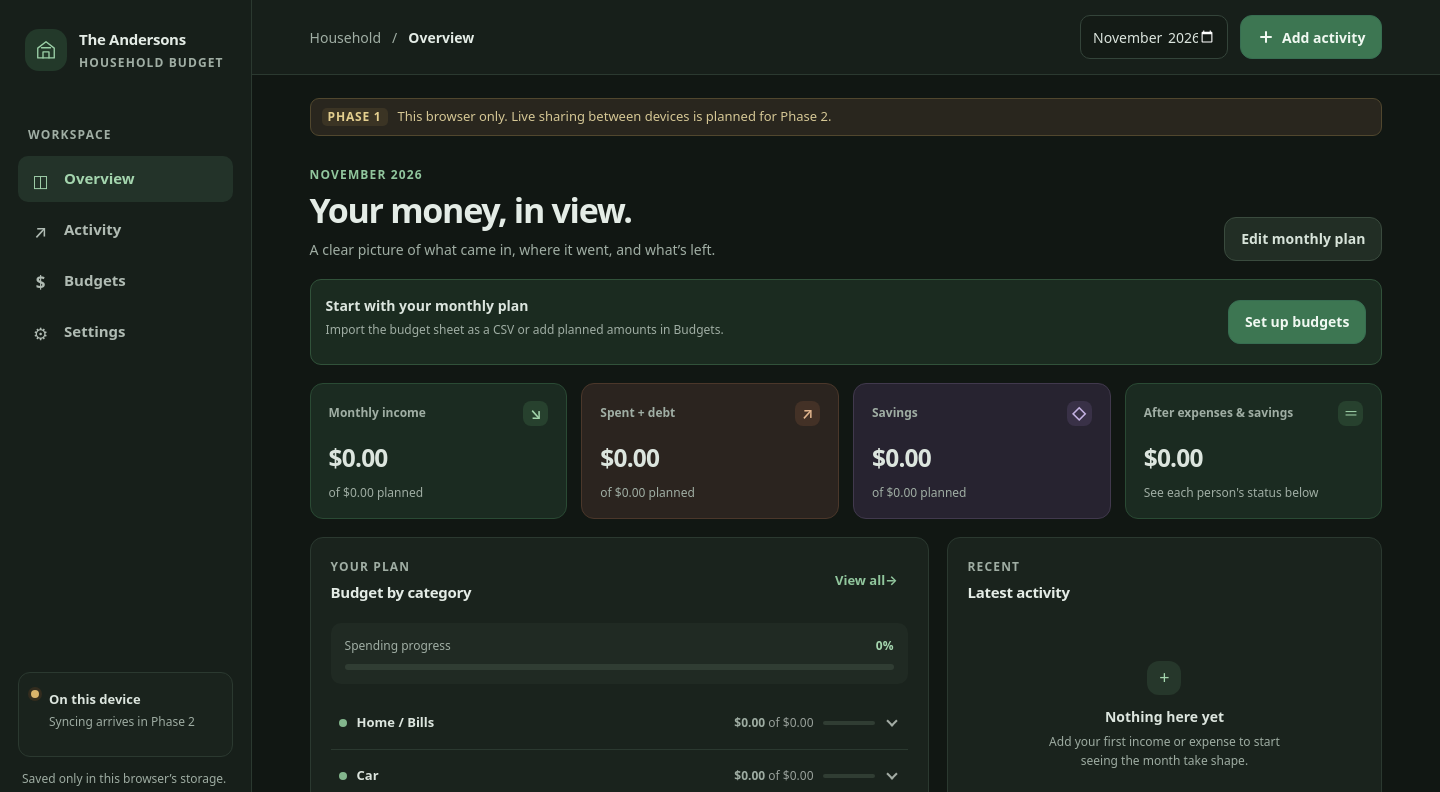
budget app phase 1 › saves monthly plans as defaults for months without an override
The image size is (1440, 792).
Click the button "$ Budgets".
click(126, 280)  # box 18,258 -> 233,304
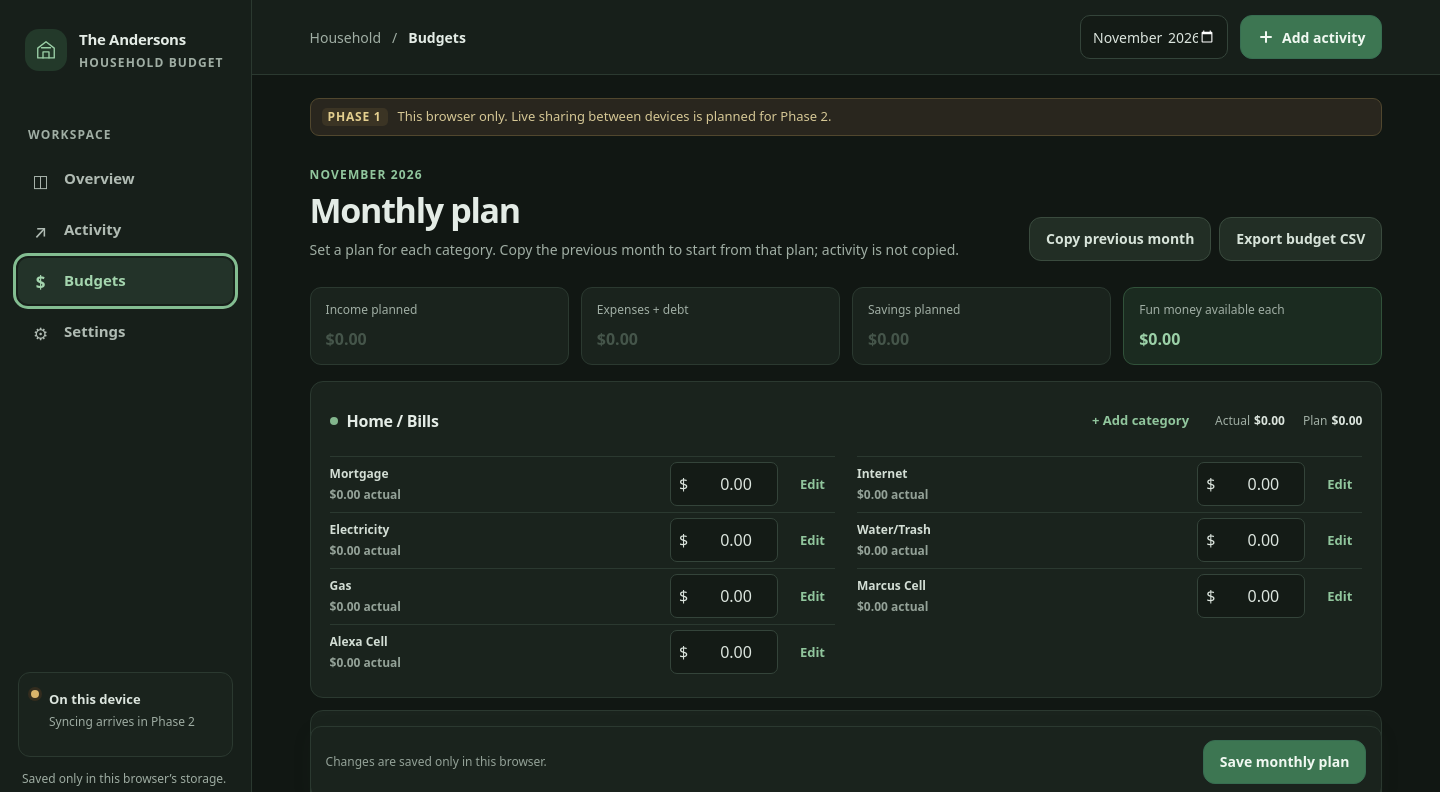
Replace the text in the number field named "Mortgage planned amount" with "1500" at (730, 484), box 691,471 -> 769,497
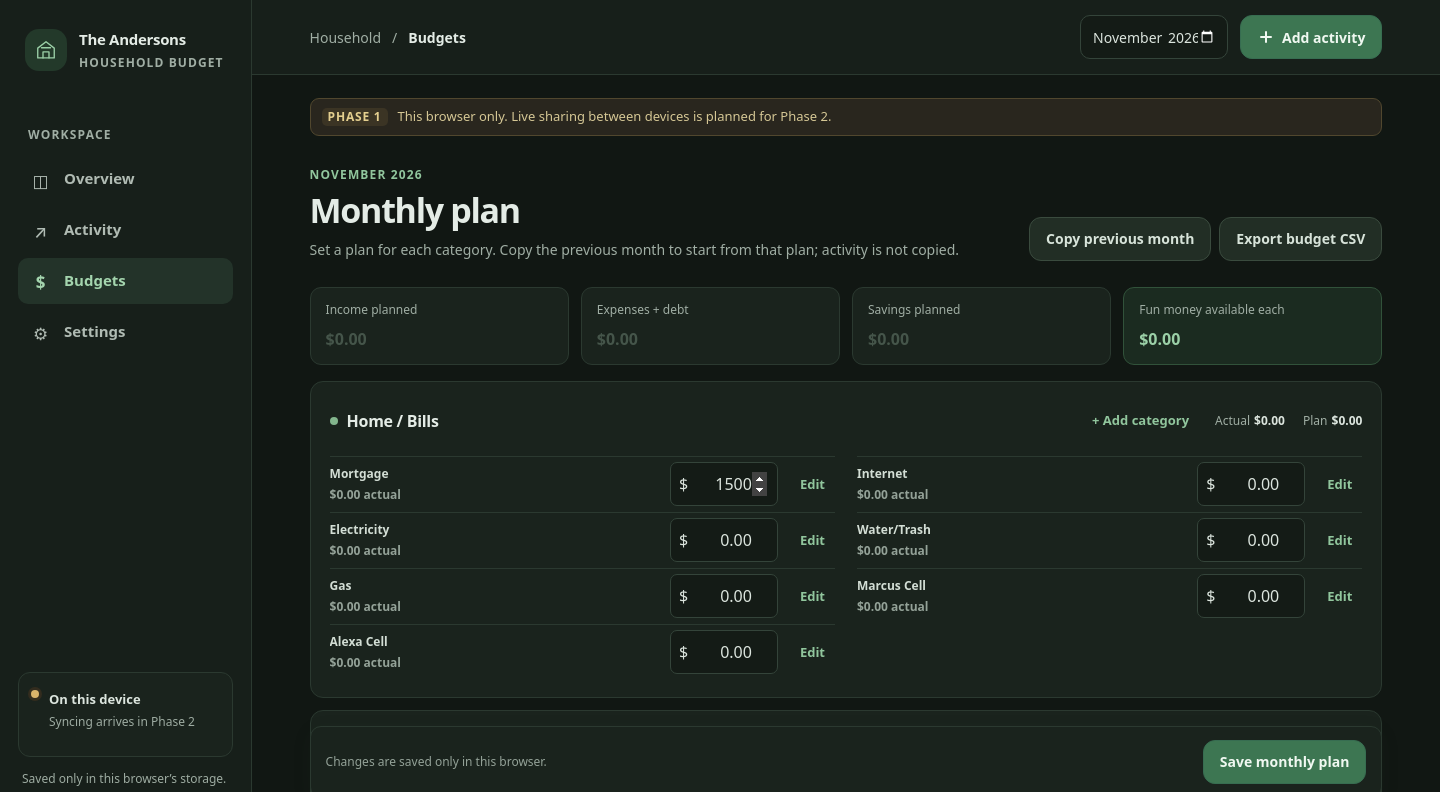
Click the button "Save monthly plan".
click(1285, 762)  # box 1203,740 -> 1366,784
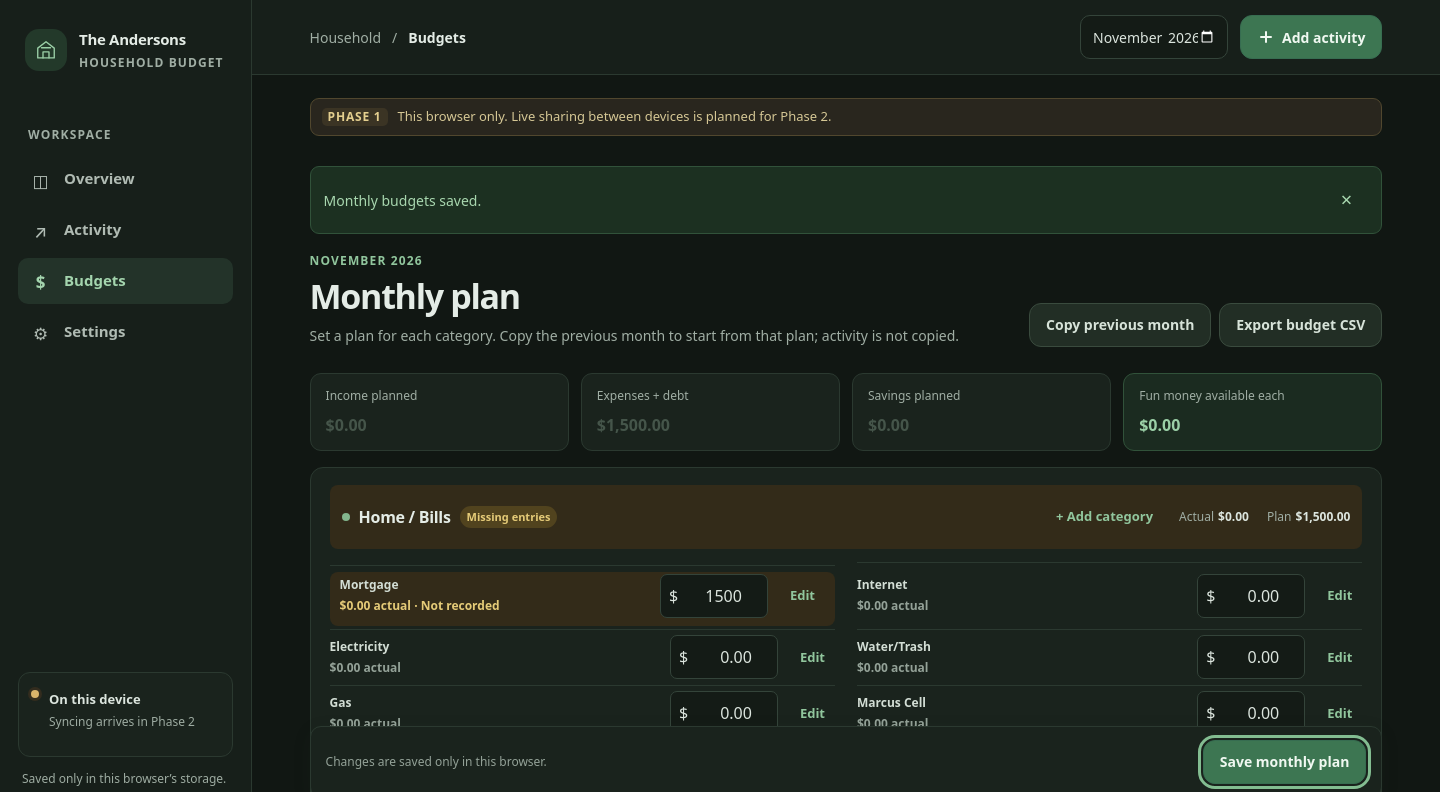
Replace the text in the field named "Budget month" with "2026-12" at (1154, 37), box 1080,15 -> 1228,59
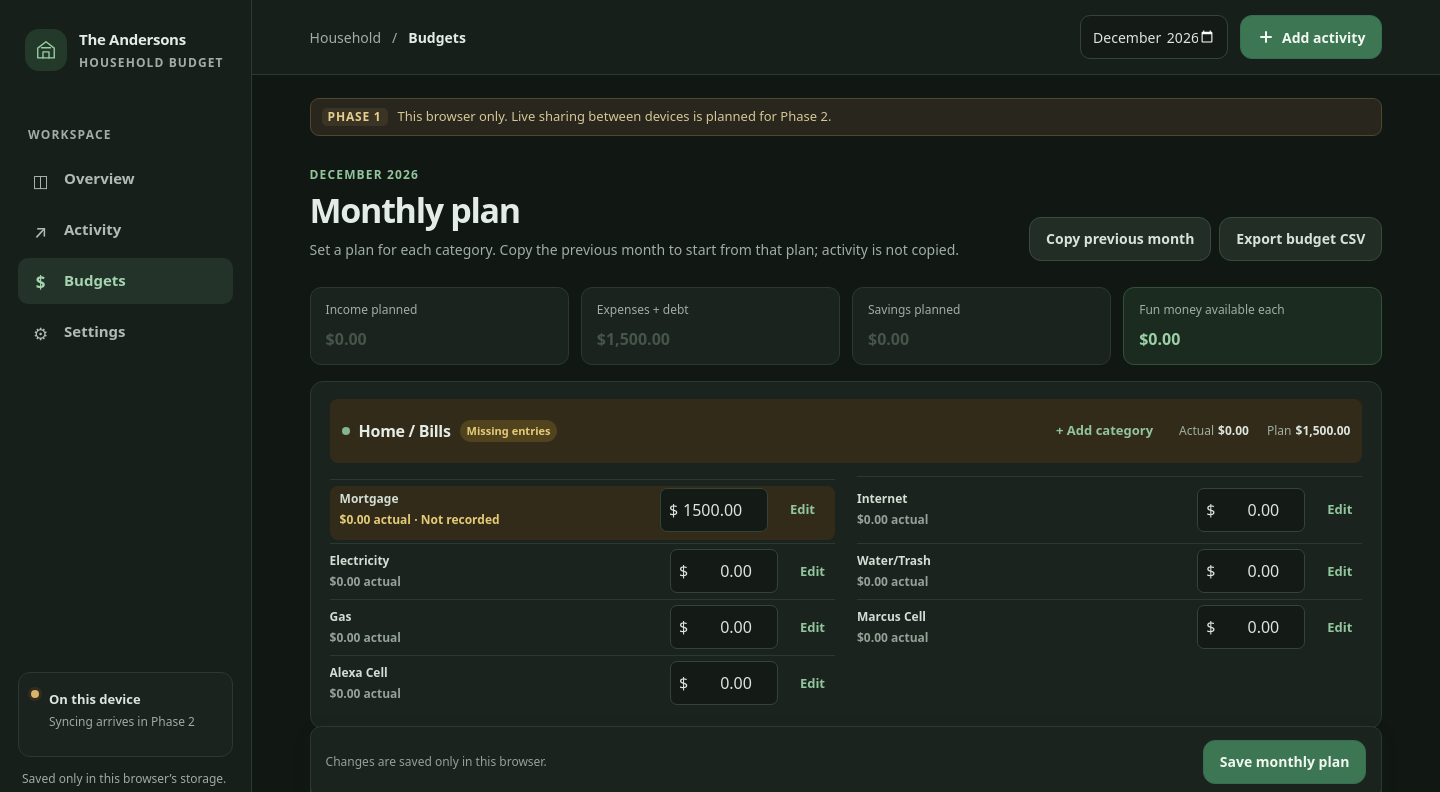
Result: the number field named "Mortgage planned amount" holds "1500" at 681,497 -> 759,523
